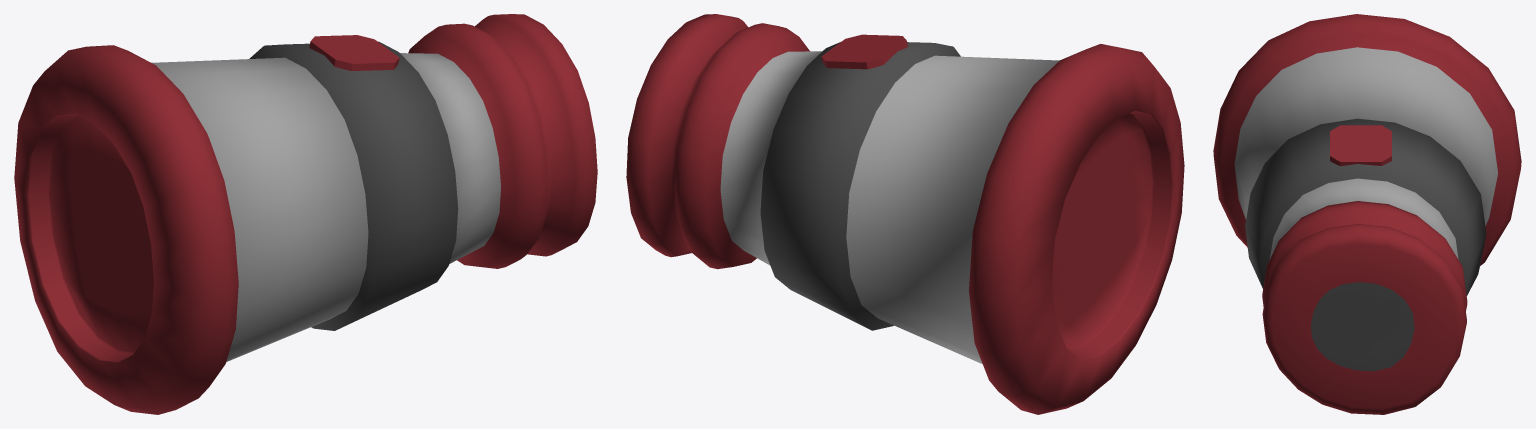
Rendered from Bracelet.fbx.
The picture shows the model from 3 angles, left to right: view 1: azimuth 30°, elevation 25°; view 2: azimuth 150°, elevation 25°; view 3: azimuth 270°, elevation 25°; orthographic projection. The views are drawn at different scales.
Visible parts, largest first — view 1: SK_Gauntlet.002, MapButton.001; view 2: SK_Gauntlet.002, MapButton.001; view 3: SK_Gauntlet.002, MapButton.001.
Boxes of the visible parts, x1,y1,x2,y2 form: SK_Gauntlet.002: [14, 14, 597, 414]; MapButton.001: [309, 35, 399, 70]; SK_Gauntlet.002: [626, 14, 1184, 414]; MapButton.001: [821, 34, 907, 69]; SK_Gauntlet.002: [1213, 14, 1521, 414]; MapButton.001: [1330, 125, 1391, 166].
Size of the model in its own units: 102 by 74.11 by 72.8.
